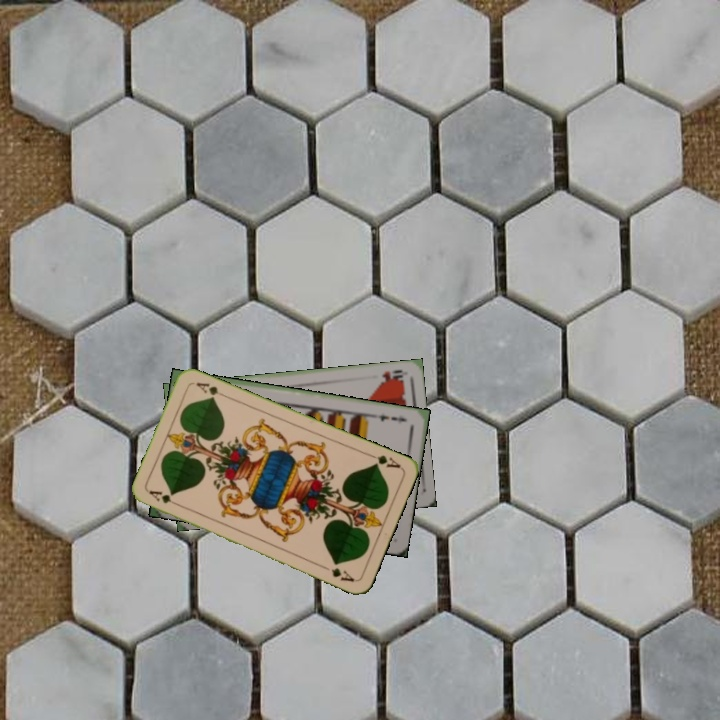E7: (371, 411, 410, 426)
GA: (145, 486, 183, 509), (364, 449, 403, 471)
HO: (377, 366, 406, 385)
